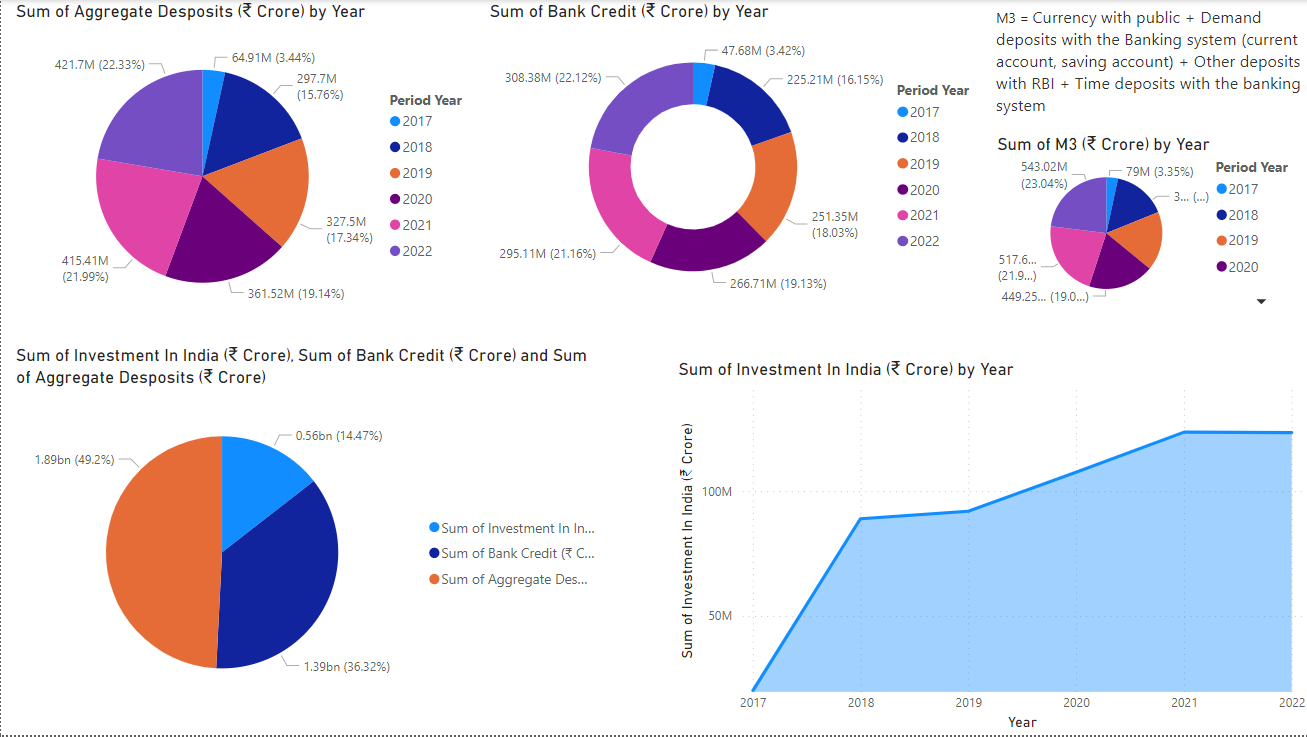

Layout of this report page (visuals, bound fields, positions):
{"tool":"powerbi","page":{"name":"Page 1","canvas":[1280,720],"ordinal":0},"visuals":[{"type":"pieChart","fields":{"Category":["Fortnightly.Period.Variation.Date Hierarchy.Year","Fortnightly.Period.Variation.Date Hierarchy.Quarter","Fortnightly.Period.Variation.Date Hierarchy.Month","Fortnightly.Period.Variation.Date Hierarchy.Day"],"Y":["Sum(Fortnightly.Aggregate Desposits (₹ Crore))"]},"box":[10,0,462.9,325.7],"z":0},{"type":"donutChart","fields":{"Category":["Fortnightly.Period.Variation.Date Hierarchy.Year","Fortnightly.Period.Variation.Date Hierarchy.Quarter","Fortnightly.Period.Variation.Date Hierarchy.Month","Fortnightly.Period.Variation.Date Hierarchy.Day"],"Y":["Sum(Fortnightly.Bank Credit (₹ Crore))"]},"box":[472.9,0,495.7,307.1],"z":1000},{"type":"pieChart","fields":{"Y":["Sum(Fortnightly.Investment In India (₹ Crore))","Sum(Fortnightly.Bank Credit (₹ Crore))","Sum(Fortnightly.Aggregate Desposits (₹ Crore))"]},"box":[10,335.7,585.7,370],"z":2000},{"type":"areaChart","fields":{"Category":["Fortnightly.Period.Variation.Date Hierarchy.Year","Fortnightly.Period.Variation.Date Hierarchy.Quarter","Fortnightly.Period.Variation.Date Hierarchy.Month","Fortnightly.Period.Variation.Date Hierarchy.Day"],"Y":["Sum(Fortnightly.Investment In India (₹ Crore))"]},"box":[657.1,350,622.9,370],"z":3000},{"type":"textbox","box":[968.6,0,311.4,128.6],"z":4000},{"type":"pieChart","fields":{"Category":["Fortnightly.Period.Variation.Date Hierarchy.Year","Fortnightly.Period.Variation.Date Hierarchy.Quarter","Fortnightly.Period.Variation.Date Hierarchy.Month","Fortnightly.Period.Variation.Date Hierarchy.Day"],"Y":["Sum(Fortnightly.M3 (₹ Crore))"]},"box":[969,129,311,178],"z":5000}]}

Visuals, with their boxes in screenshot pixels (x1, y1, x2, y2), scaled from the page's 1280x720 canvas onto the 1307x737 screenshot:
pieChart - Fortnightly.Period.Variation.Date Hierarchy.Year x Fortnightly.Period.Variation.Date Hierarchy.Quarter: [10, 0, 483, 333]
donutChart - Fortnightly.Period.Variation.Date Hierarchy.Year x Fortnightly.Period.Variation.Date Hierarchy.Quarter: [483, 0, 989, 314]
pieChart - Sum(Fortnightly.Investment In India (₹ Crore)) x Sum(Fortnightly.Bank Credit (₹ Crore)): [10, 344, 608, 722]
areaChart - Fortnightly.Period.Variation.Date Hierarchy.Year x Fortnightly.Period.Variation.Date Hierarchy.Quarter: [671, 358, 1306, 736]
textbox: [989, 0, 1306, 132]
pieChart - Fortnightly.Period.Variation.Date Hierarchy.Year x Fortnightly.Period.Variation.Date Hierarchy.Quarter: [989, 132, 1306, 314]
